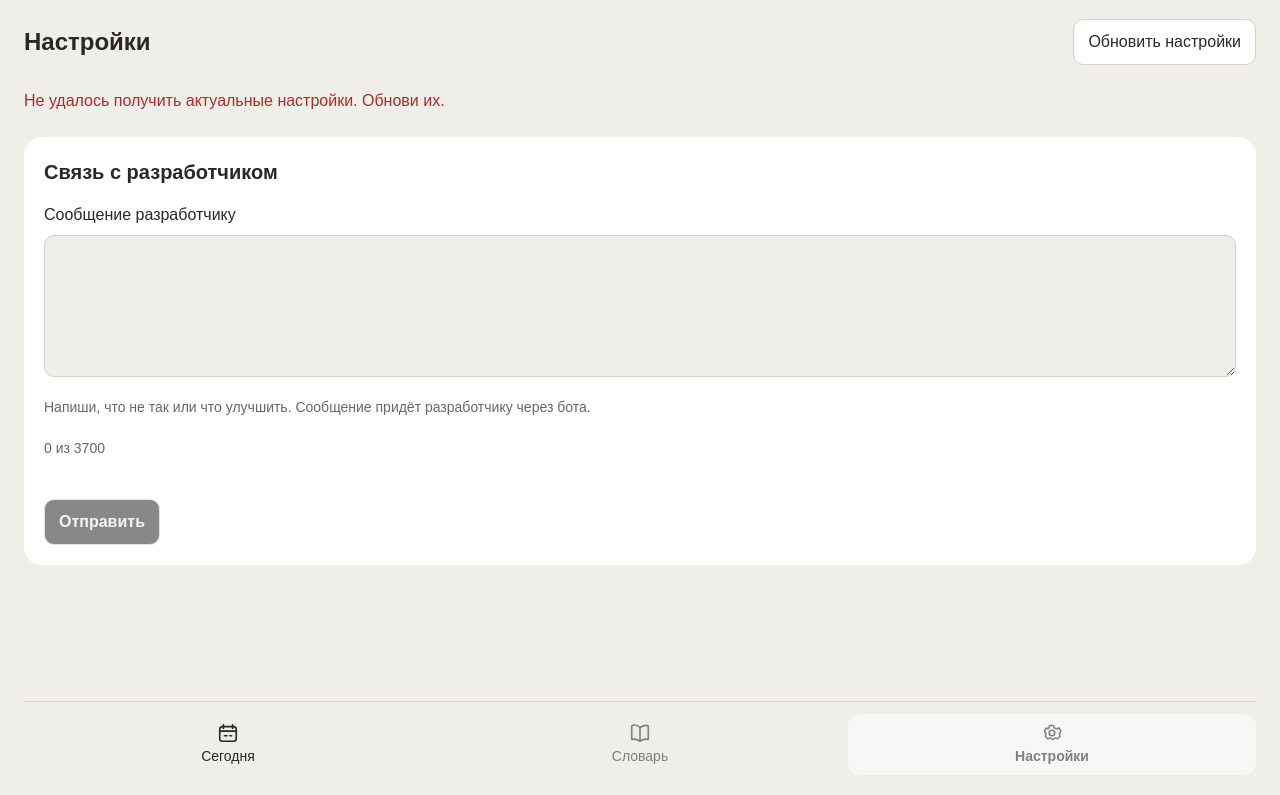
Test: Settings host uses the shared confirmed version › does not publish a first stale read as confirmed settings
expect the text "Не удалось получить актуальные настройки. Обнови их." is shown: met, box [24, 92, 445, 109]
expect the element "Новых карточек в группе" is not shown: met
Click the button "Обновить настройки" at (1165, 42), box [1073, 19, 1256, 65]
(page scrolled)
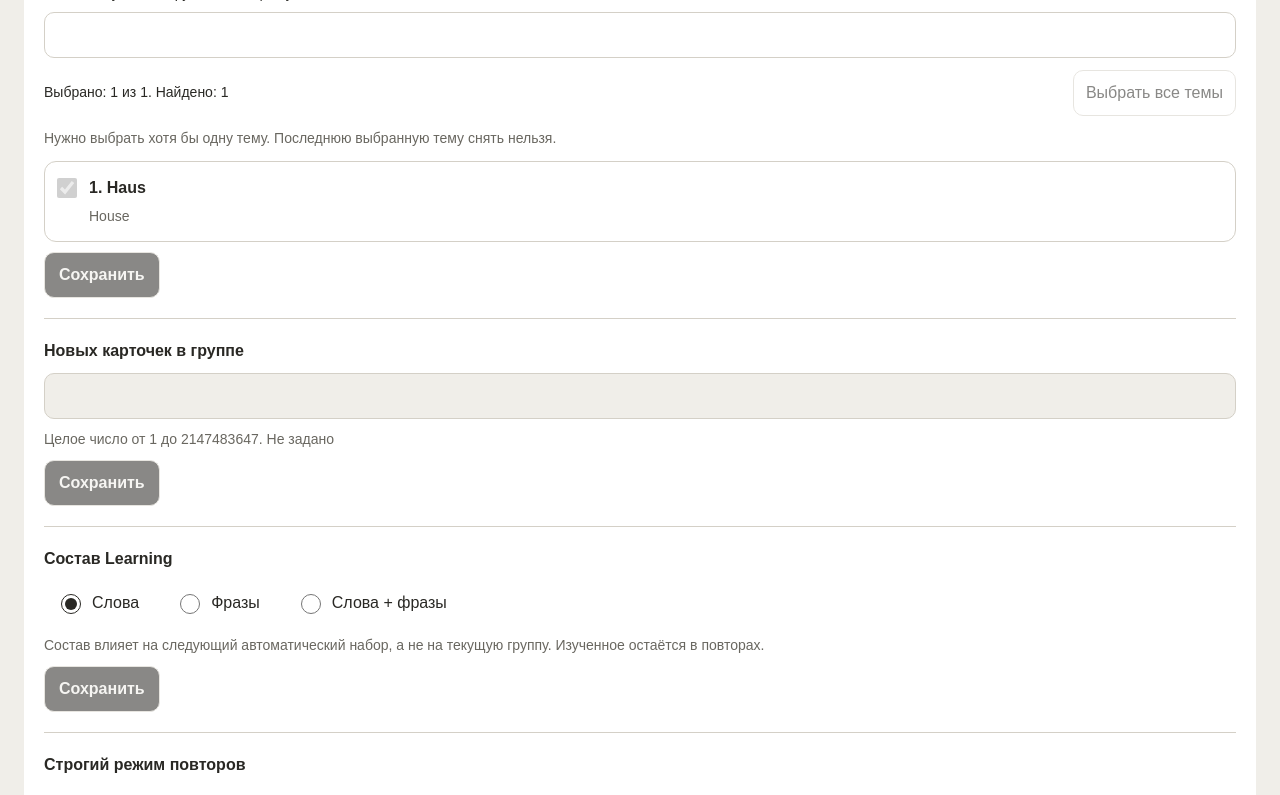
expect the field is enabled: met, box [44, 373, 1236, 419]
